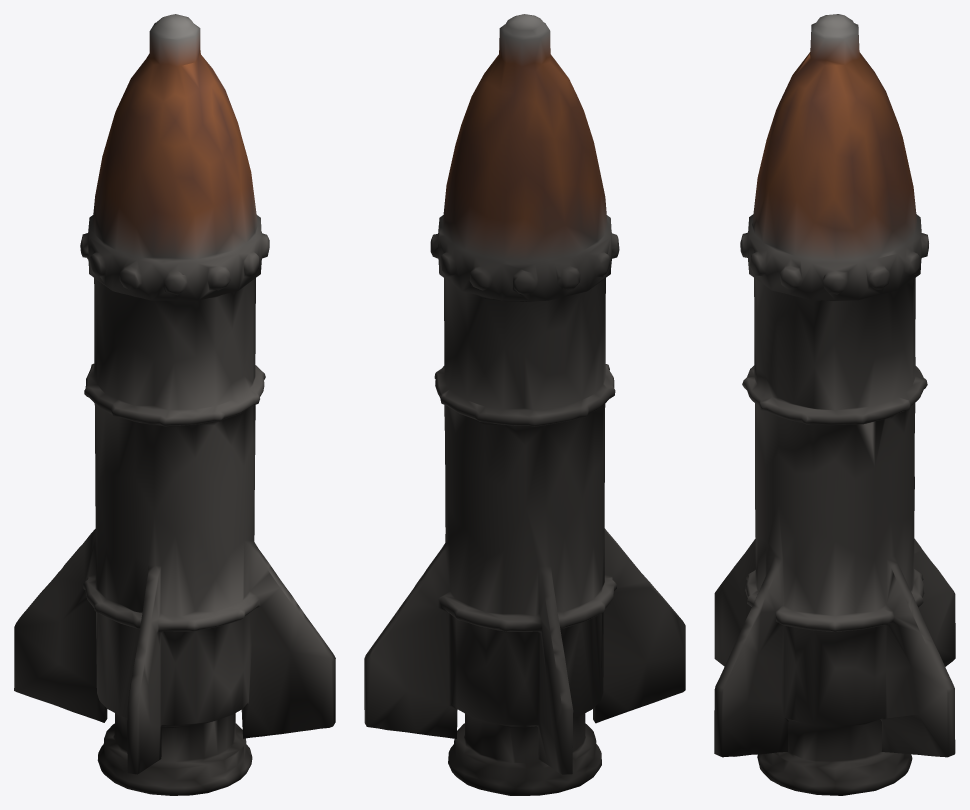
Rendered from tallow-rocket.glb.
3 views of the same model, side by side, from view 1: azimuth 30°, elevation 25°; view 2: azimuth 150°, elevation 25°; view 3: azimuth 270°, elevation 25° (orthographic).
Visible parts, largest first — view 1: tallow-rocket; view 2: tallow-rocket; view 3: tallow-rocket.
Part boxes in pixels (x1=…): tallow-rocket: x1=14, y1=14, x2=335, y2=795; tallow-rocket: x1=364, y1=14, x2=685, y2=795; tallow-rocket: x1=714, y1=14, x2=955, y2=795.
Bounding box in the file's own units: 0.1488 × 0.5096 × 0.1488.
